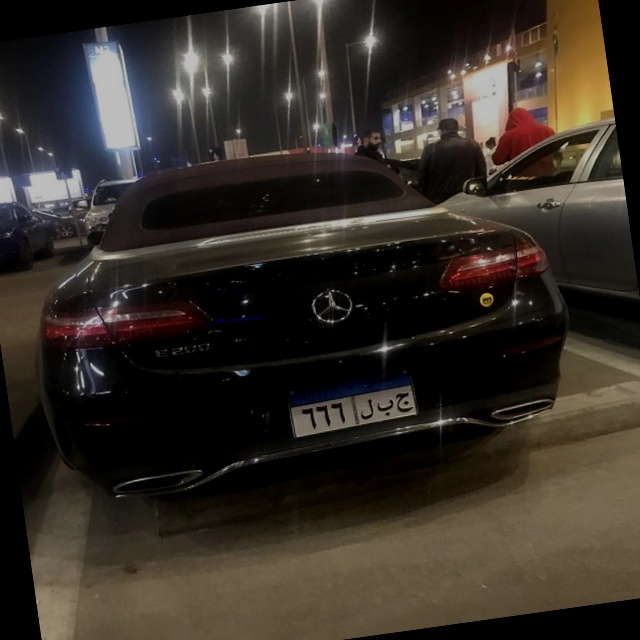License Plate: (283, 367, 422, 441)
